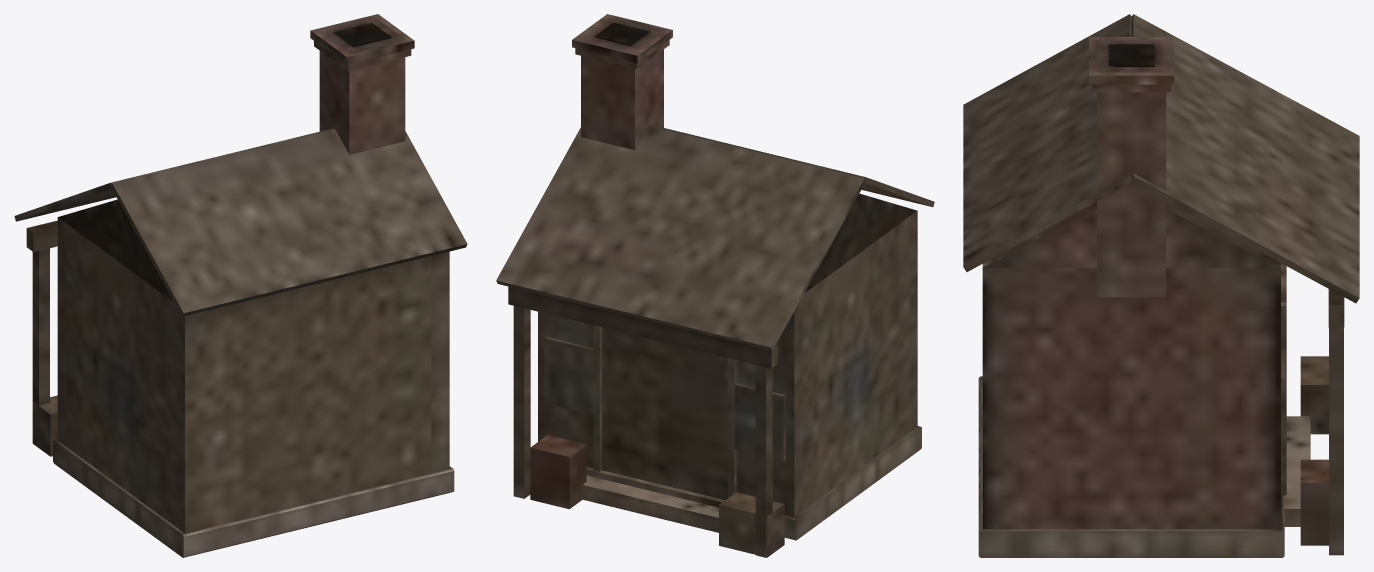
The model's file is b_workshop_xfar.glb.
3 renders of one model, left to right at view 1: azimuth 30°, elevation 25°; view 2: azimuth 150°, elevation 25°; view 3: azimuth 270°, elevation 25°, orthographic. The views are drawn at different scales.
Parts seen in each view (by area): view 1: b_workshop_xfar; view 2: b_workshop_xfar; view 3: b_workshop_xfar.
Part boxes in pixels (x1,y1,x2,y2): b_workshop_xfar: [14, 14, 467, 557]; b_workshop_xfar: [496, 14, 934, 557]; b_workshop_xfar: [963, 14, 1359, 557].
Bounding box in the file's own units: 3.87 × 5.41 × 3.99.
Materials: 1 (1 with a texture image).
